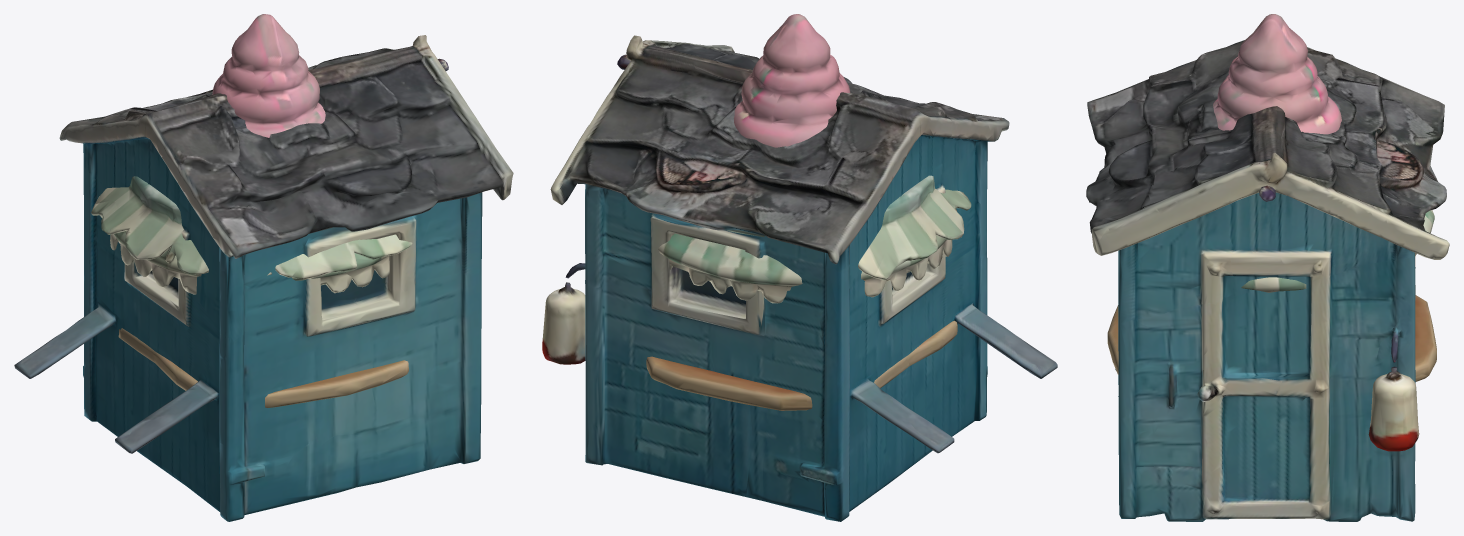
The model's file is cabanes.glb.
3 views of the same model, side by side, from view 1: azimuth 30°, elevation 25°; view 2: azimuth 150°, elevation 25°; view 3: azimuth 270°, elevation 25° (orthographic). The views are drawn at different scales.
Parts seen in each view (by area): view 1: cabane-pecheur, kiosque-glaces; view 2: cabane-pecheur, kiosque-glaces; view 3: cabane-pecheur, kiosque-glaces.
Boxes of the visible parts, left/top/right/bottom form: cabane-pecheur: left=14, top=35, right=513, bottom=521; kiosque-glaces: left=91, top=14, right=412, bottom=407; cabane-pecheur: left=542, top=35, right=1057, bottom=521; kiosque-glaces: left=646, top=14, right=971, bottom=410; cabane-pecheur: left=1086, top=40, right=1449, bottom=521; kiosque-glaces: left=1107, top=14, right=1436, bottom=381.
Bounding box in the file's own units: 4 × 4.25 × 3.19.
1 material, 1 textured.
